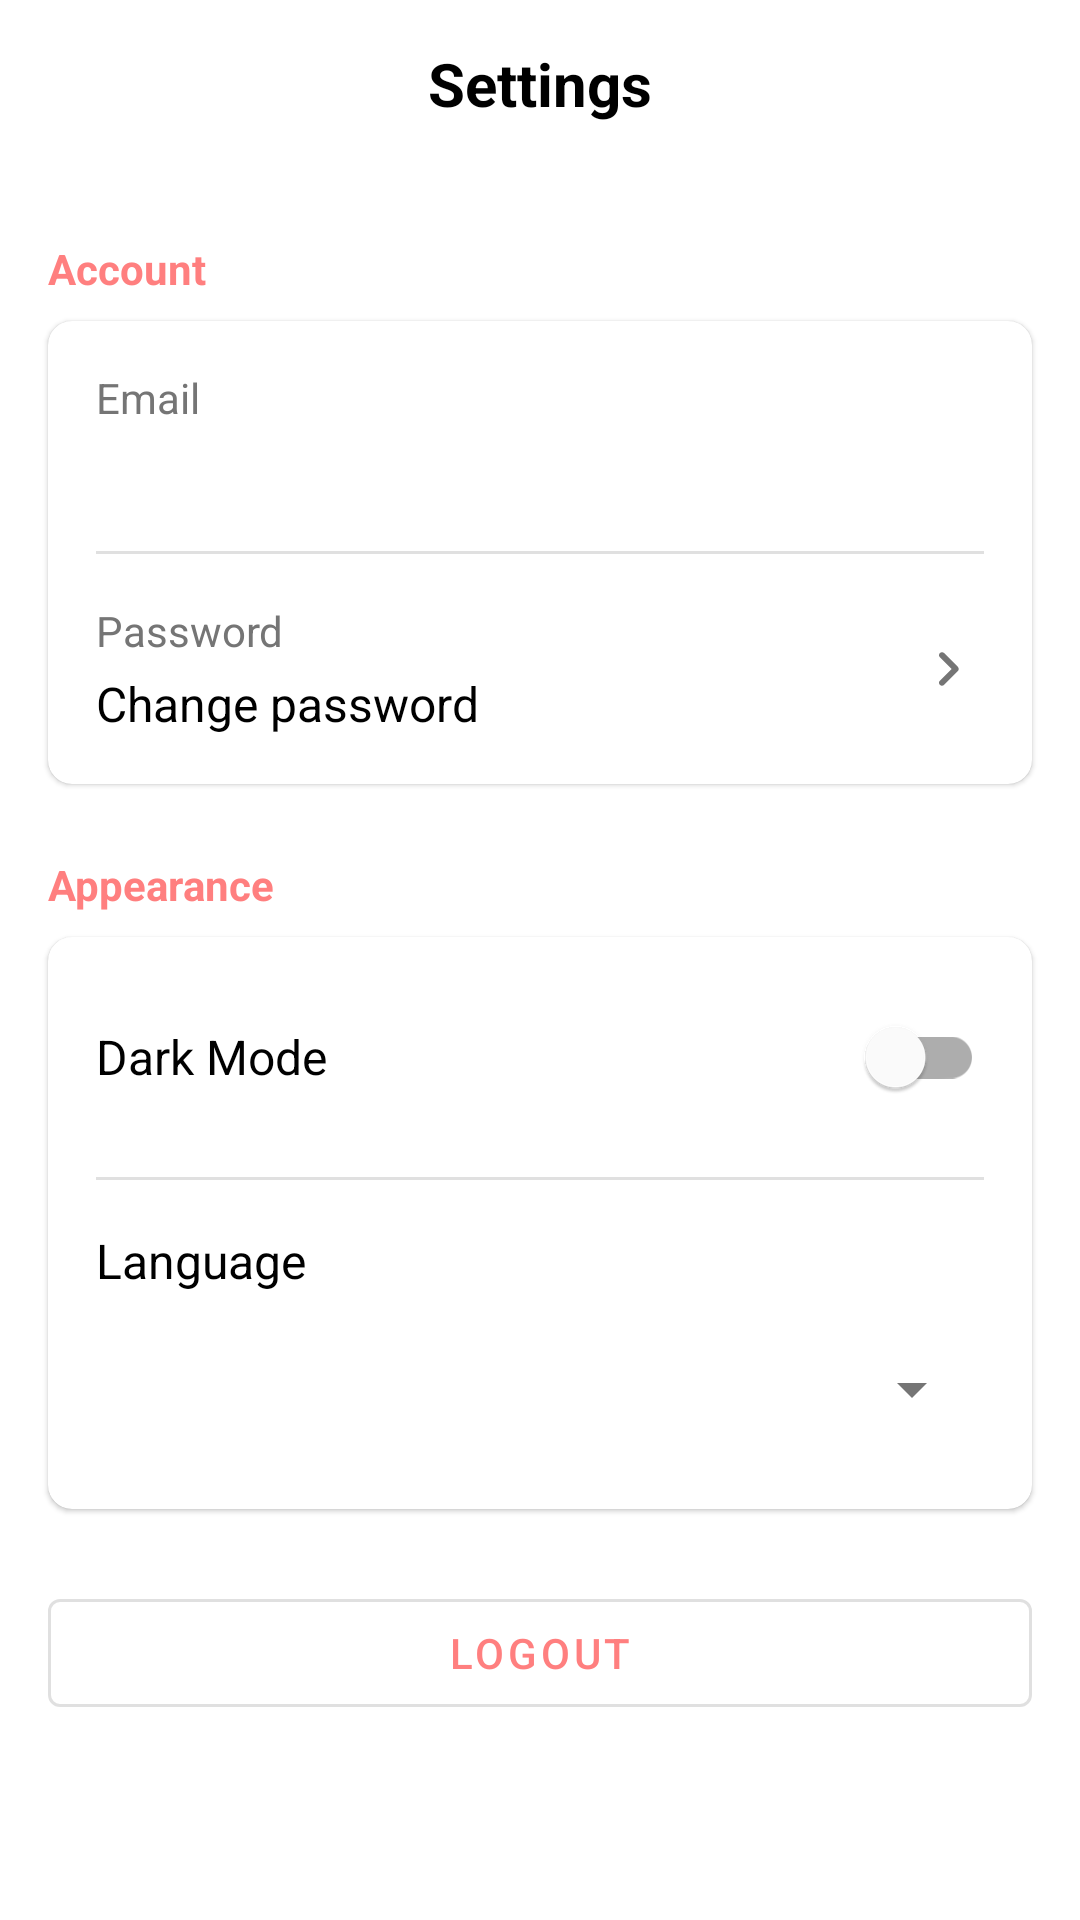

Icon click points for this 1080 × 1920 phone screenshot, format (x,y):
chevron right: (949,669)
